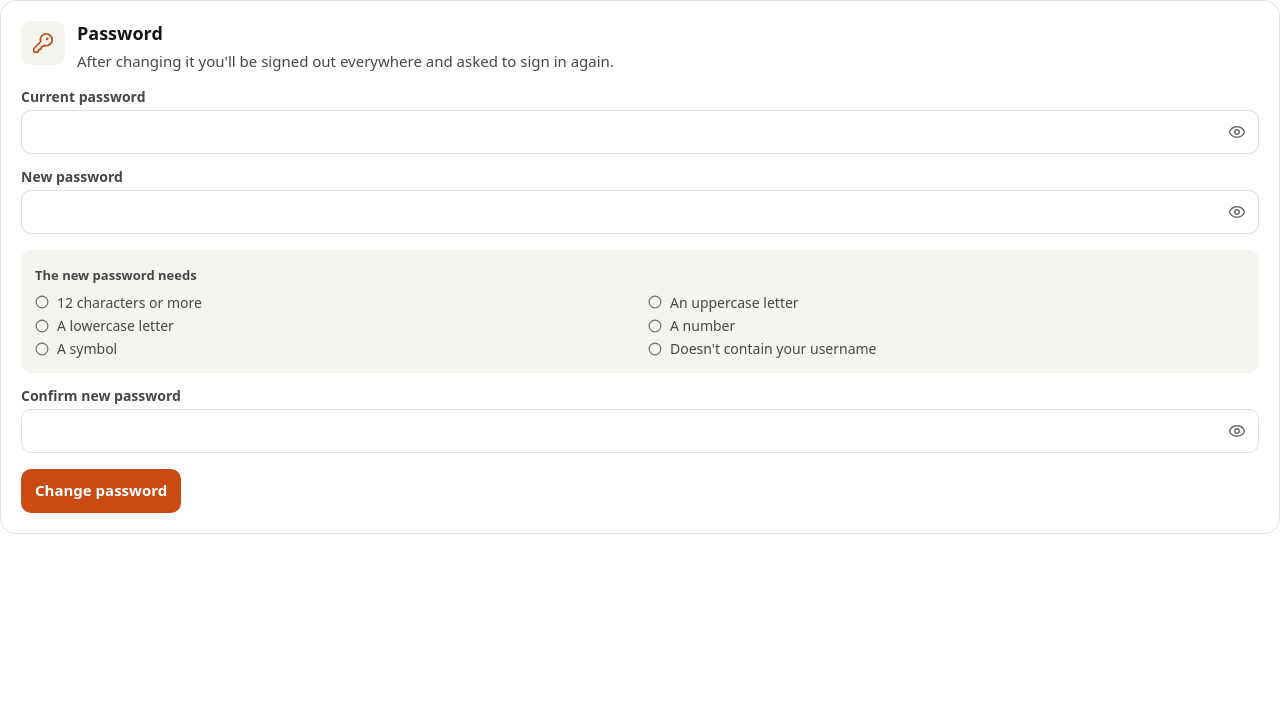
Test case: change password › puts a wrong current password on its field
Type "not-it" into the password field labelled "Current password".
click(640, 132); type("not-it")  # box [21, 110, 1259, 154]
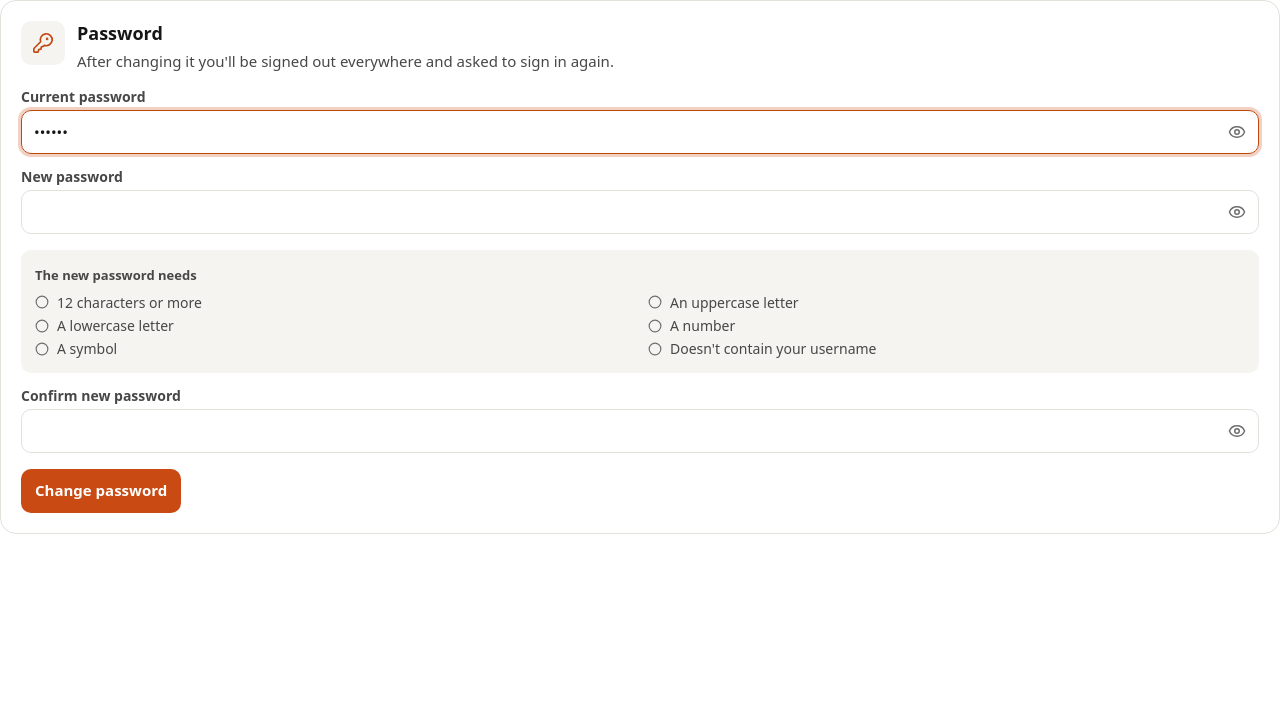
Type "Night#Falcon2026" into the password field labelled "New password".
click(640, 212); type("Night#Falcon2026")  # box [21, 190, 1259, 234]
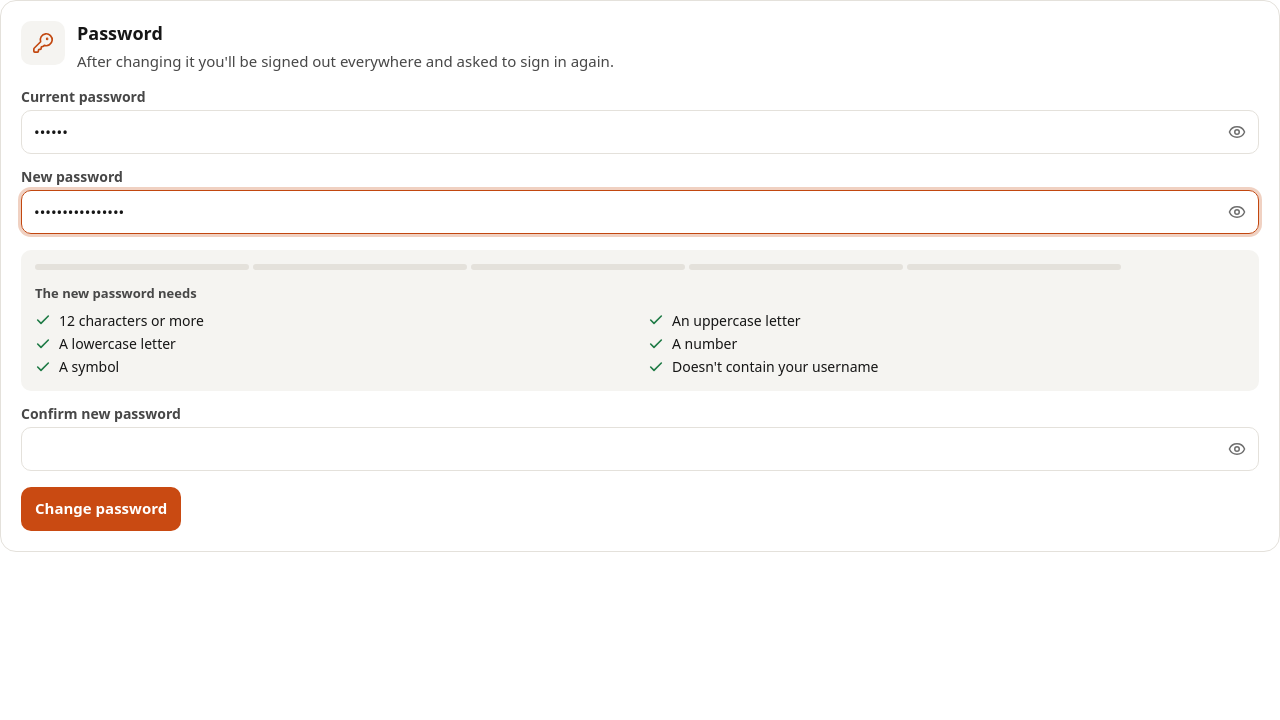
Type "Night#Falcon2026" into the password field labelled "Confirm new password".
click(640, 448); type("Night#Falcon2026")  # box [21, 426, 1259, 470]
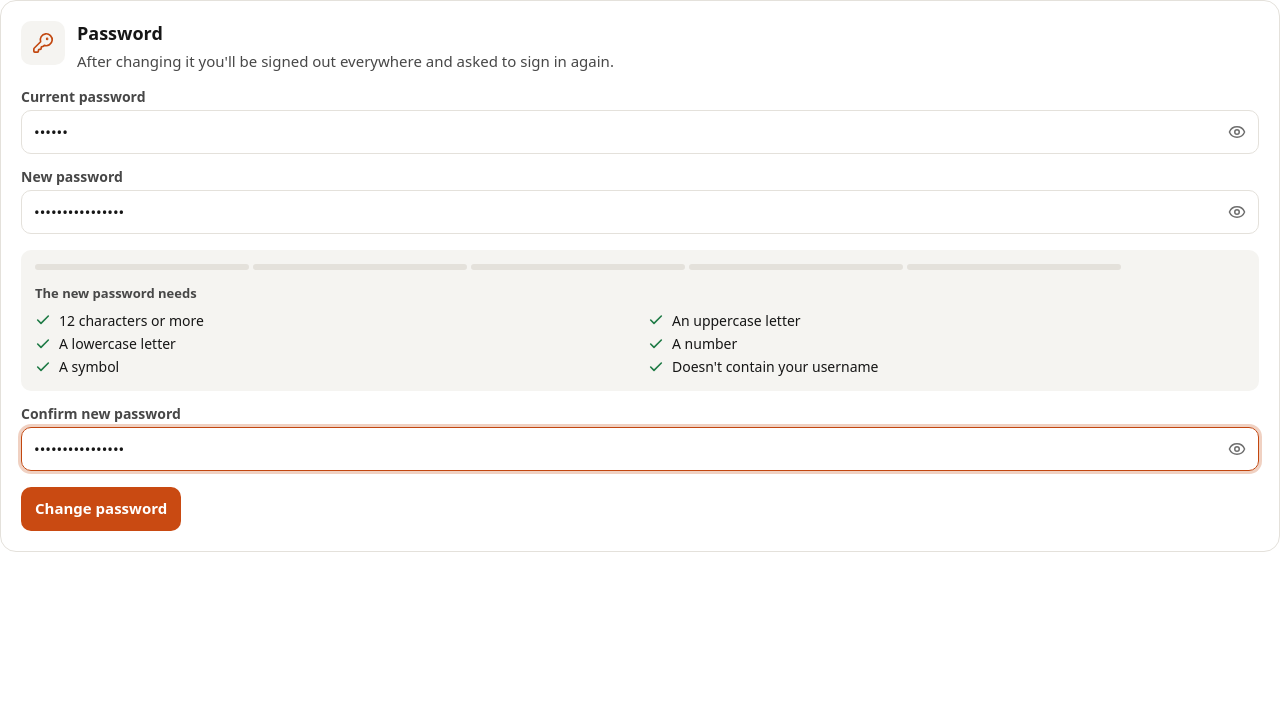
Click the button "Change password".
click(101, 508)  # box [21, 486, 181, 530]
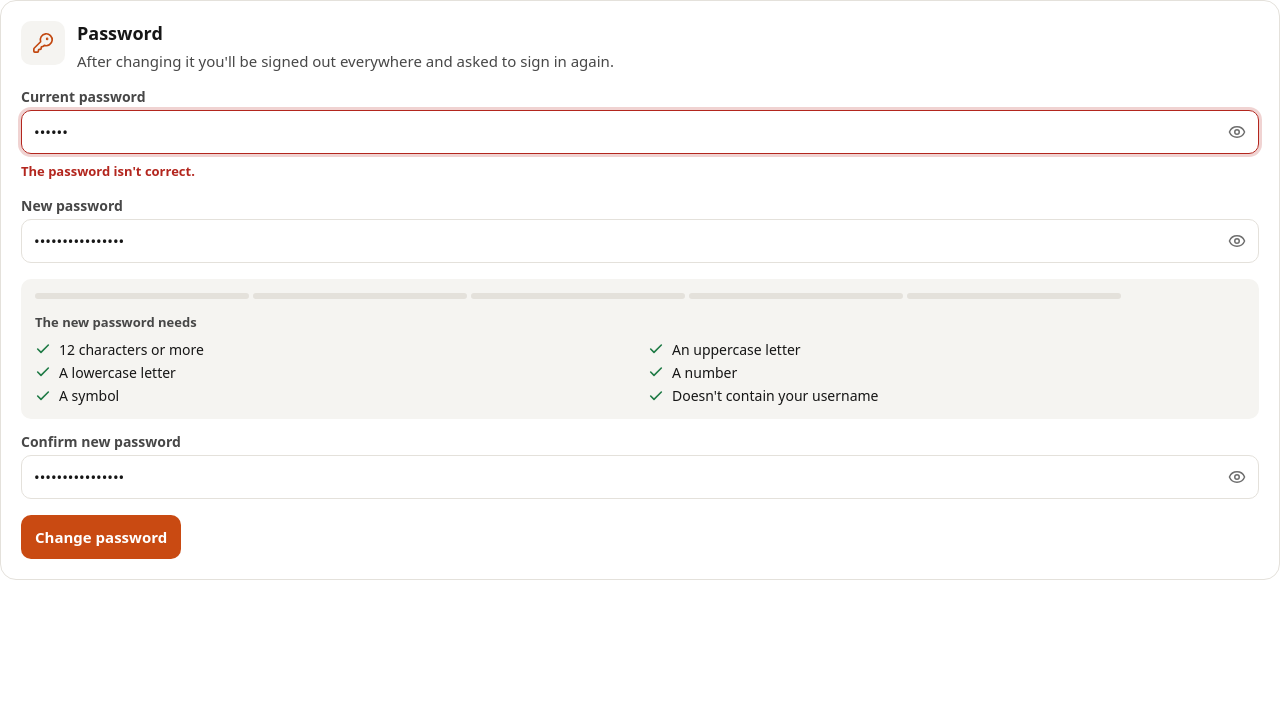
Check: the text "The password isn't correct." is shown, box [21, 162, 195, 180]
